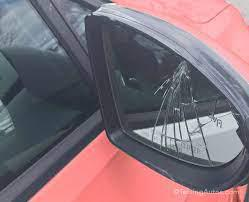Sidemirror-Damage: (59, 1, 248, 193)
